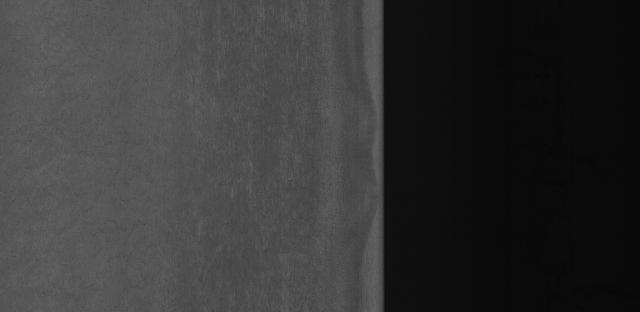silk_spot: (155, 74, 285, 202)
